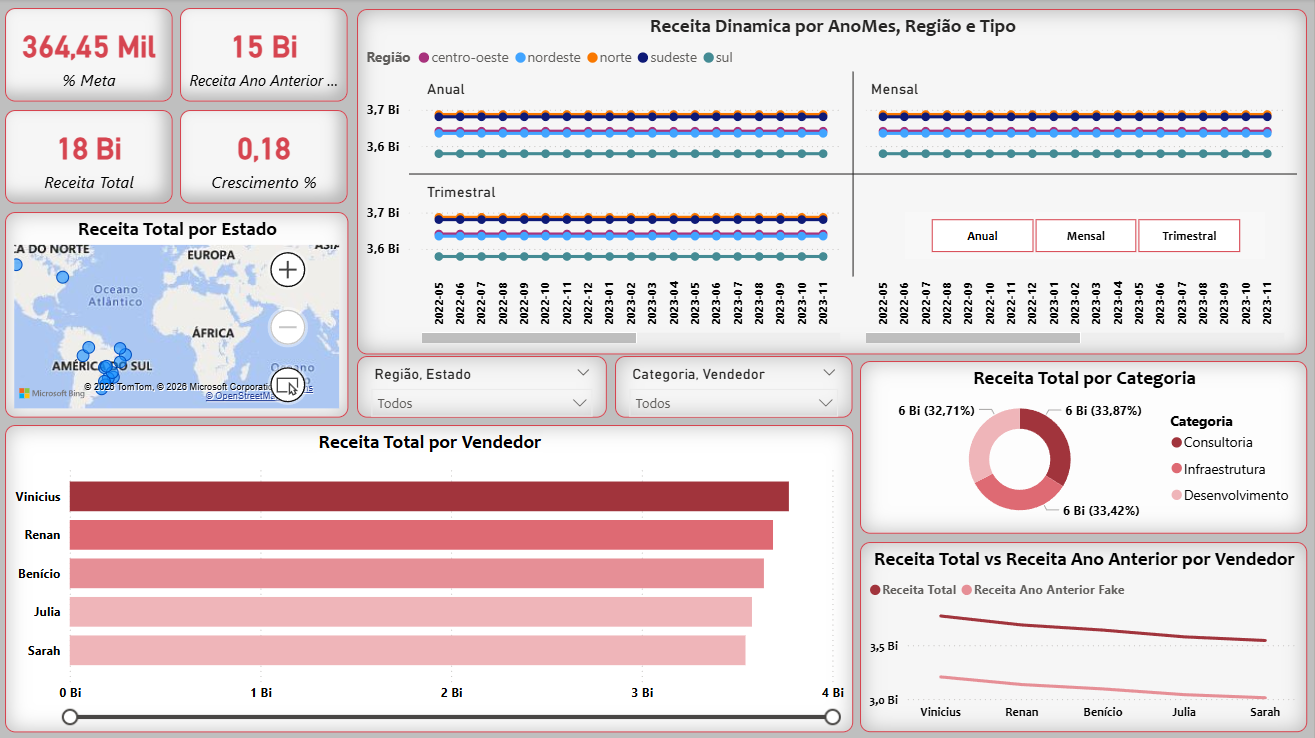

This screenshot's page, from the dashboard's own definition file:
{"tool":"powerbi","page":{"name":"Página 1","canvas":[1280,720],"ordinal":0},"visuals":[{"type":"card","fields":{"Values":["Calendario.Receita Total"]},"box":[6.8,108,163.4,91.4],"z":0},{"type":"card","fields":{"Values":["Calendario.Receita Ano Anterior"]},"box":[177,8.8,163.4,91.4],"z":1},{"type":"card","fields":{"Values":["Calendario.Crescimento %"]},"box":[177,108,163.4,91.4],"z":2},{"type":"card","fields":{"Values":["Calendario.% Meta"]},"box":[6.8,8.8,163.4,91.4],"z":3},{"type":"lineChart","fields":{"Category":["Calendario.AnoMes"],"Y":["Calendario.Receita Dinamica"],"Series":["Equipe_Nebula.Região"],"Rows":["Periodo.Tipo"]},"box":[349.2,9.7,924,335.6],"z":4},{"type":"barChart","fields":{"Category":["Equipe_Nebula.Vendedor"],"Y":["Calendario.Receita Total"]},"box":[6.8,414.3,824.8,298.6],"z":5},{"type":"donutChart","fields":{"Category":["Equipe_Nebula.Categoria"],"Y":["Calendario.Receita Total"]},"box":[838.4,352.1,434.8,168.3],"z":6},{"type":"map","fields":{"Category":["Equipe_Nebula.Estado"],"Size":["Calendario.Receita Total"]},"box":[6.8,207.2,333.6,200.4],"z":7},{"type":"slicer","fields":{"Values":["Periodo.Tipo"]},"box":[882.2,207.2,350,46],"z":8},{"type":"slicer","fields":{"Values":["Equipe_Nebula.Região","Equipe_Nebula.Estado"]},"box":[349.2,347.2,243.2,60.3],"z":9},{"type":"slicer","fields":{"Values":["Equipe_Nebula.Categoria","Equipe_Nebula.Vendedor"]},"box":[600.1,347.2,231.5,60.3],"z":10},{"type":"lineChart","title":"Receita Total vs Receita Ano Anterior por Vendedor","fields":{"Category":["Equipe_Nebula.Vendedor"],"Y":["Calendario.Receita Total","Calendario.Receita Ano Anterior Fake"]},"box":[838.4,528.1,434.8,184.8],"z":11}]}

Visuals, with their boxes in screenshot pixels (x1, y1, x2, y2), scaled from the page's 1280x720 canvas onto the 1315x738 screenshot:
card - Calendario.Receita Total: bbox=[7, 111, 175, 204]
card - Calendario.Receita Ano Anterior: bbox=[182, 9, 350, 103]
card - Calendario.Crescimento %: bbox=[182, 111, 350, 204]
card - Calendario.% Meta: bbox=[7, 9, 175, 103]
lineChart - Calendario.AnoMes x Calendario.Receita Dinamica: bbox=[359, 10, 1308, 354]
barChart - Equipe_Nebula.Vendedor x Calendario.Receita Total: bbox=[7, 425, 854, 731]
donutChart - Equipe_Nebula.Categoria x Calendario.Receita Total: bbox=[861, 361, 1308, 533]
map - Equipe_Nebula.Estado x Calendario.Receita Total: bbox=[7, 212, 350, 418]
slicer - Periodo.Tipo: bbox=[906, 212, 1266, 260]
slicer - Equipe_Nebula.Região x Equipe_Nebula.Estado: bbox=[359, 356, 609, 418]
slicer - Equipe_Nebula.Categoria x Equipe_Nebula.Vendedor: bbox=[617, 356, 854, 418]
"Receita Total vs Receita Ano Anterior por Vendedor" lineChart: bbox=[861, 541, 1308, 731]
